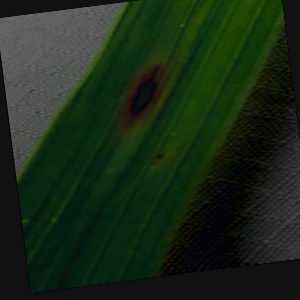Bacterial_Leaf_Blight: (105, 57, 181, 132), (147, 148, 173, 163)
